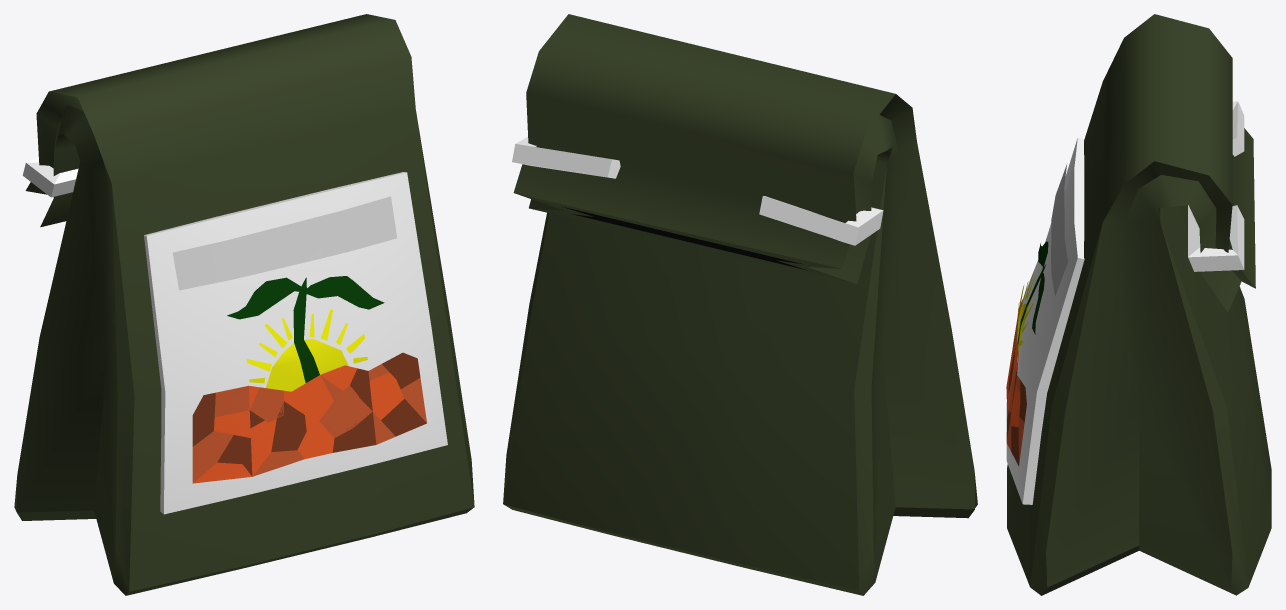
Rendered from super_fert.fbx.
The picture shows the model from 3 angles, left to right: view 1: azimuth 30°, elevation 25°; view 2: azimuth 150°, elevation 25°; view 3: azimuth 270°, elevation 25°; orthographic projection. The views are drawn at different scales.
Parts seen in each view (by area): view 1: super_fert; view 2: super_fert; view 3: super_fert.
Part boxes in pixels (<box>): super_fert: <box>14,14,474,595</box>; super_fert: <box>503,14,977,595</box>; super_fert: <box>1006,14,1271,595</box>.
Bounding box in the file's own units: 5.46 × 6.59 × 3.69.
